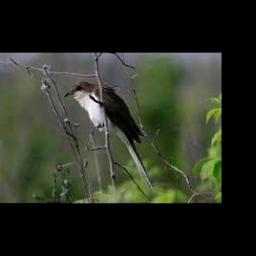Cuckoo: (64, 80, 155, 193)
